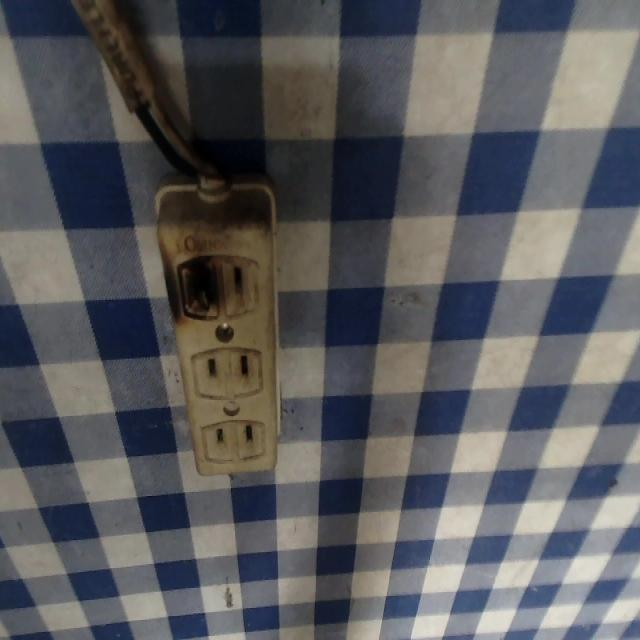-: (210, 319, 257, 360), (200, 225, 244, 267), (212, 276, 255, 316)
